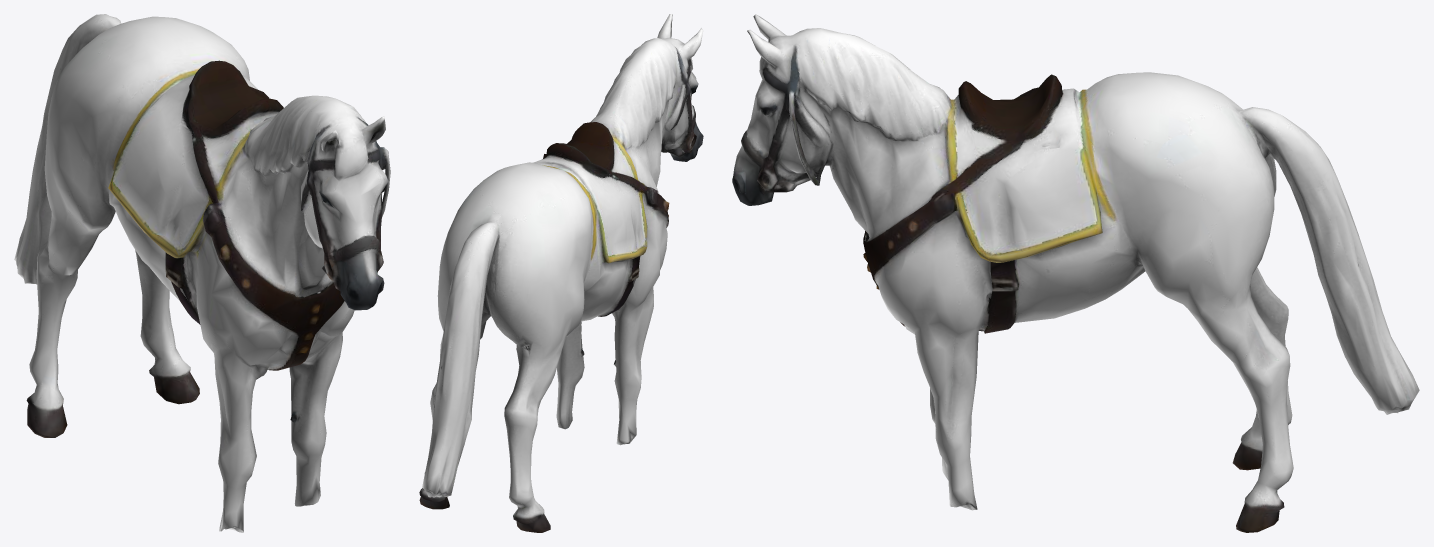
The model's file is horse.glb.
The picture shows the model from 3 angles, left to right: view 1: azimuth 30°, elevation 25°; view 2: azimuth 150°, elevation 25°; view 3: azimuth 270°, elevation 25°; orthographic projection. The views are drawn at different scales.
Parts seen in each view (by area): view 1: horse; view 2: horse; view 3: horse.
Boxes of the visible parts, <box> form: horse: <box>14,14,390,532</box>; horse: <box>419,14,703,532</box>; horse: <box>732,14,1419,532</box>.
Bounding box in the file's own units: 0.7138 × 1.9 × 2.5.
1 material, 1 textured.
